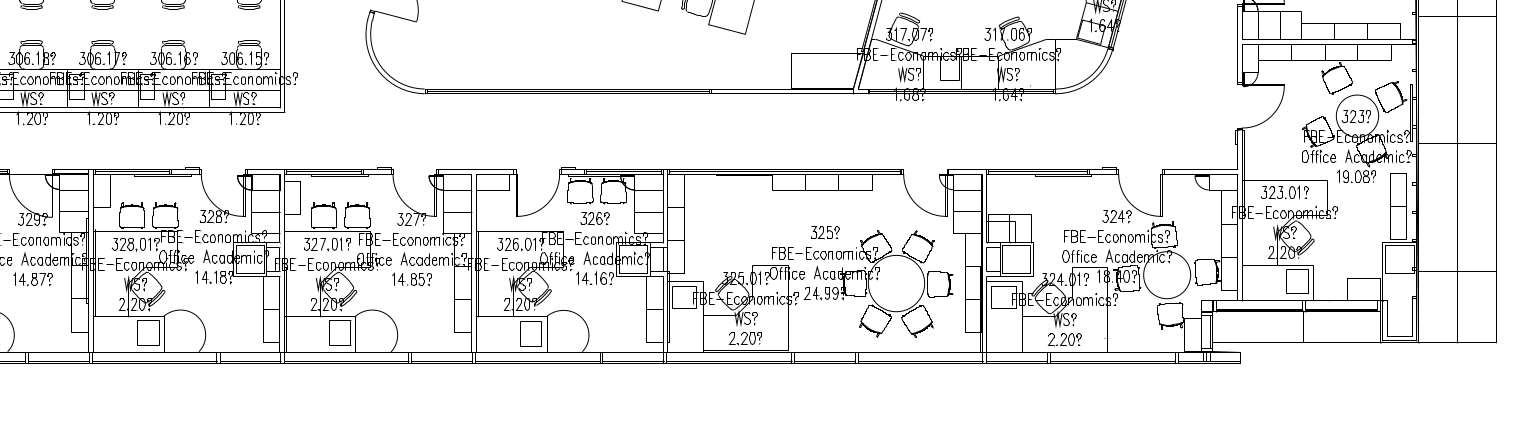door: (1109, 164, 1172, 223), (890, 166, 953, 225), (505, 165, 568, 224), (378, 163, 441, 222), (188, 163, 251, 222), (1, 163, 55, 226), (1231, 79, 1292, 133)
